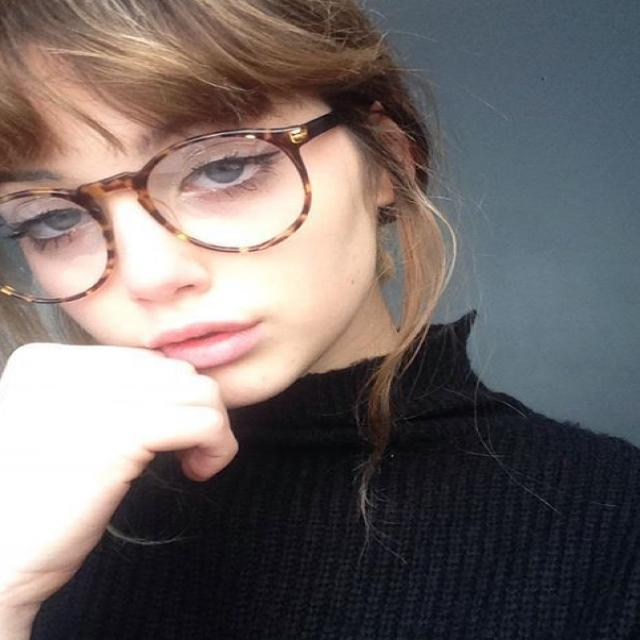Glasses: (0, 102, 344, 308)
